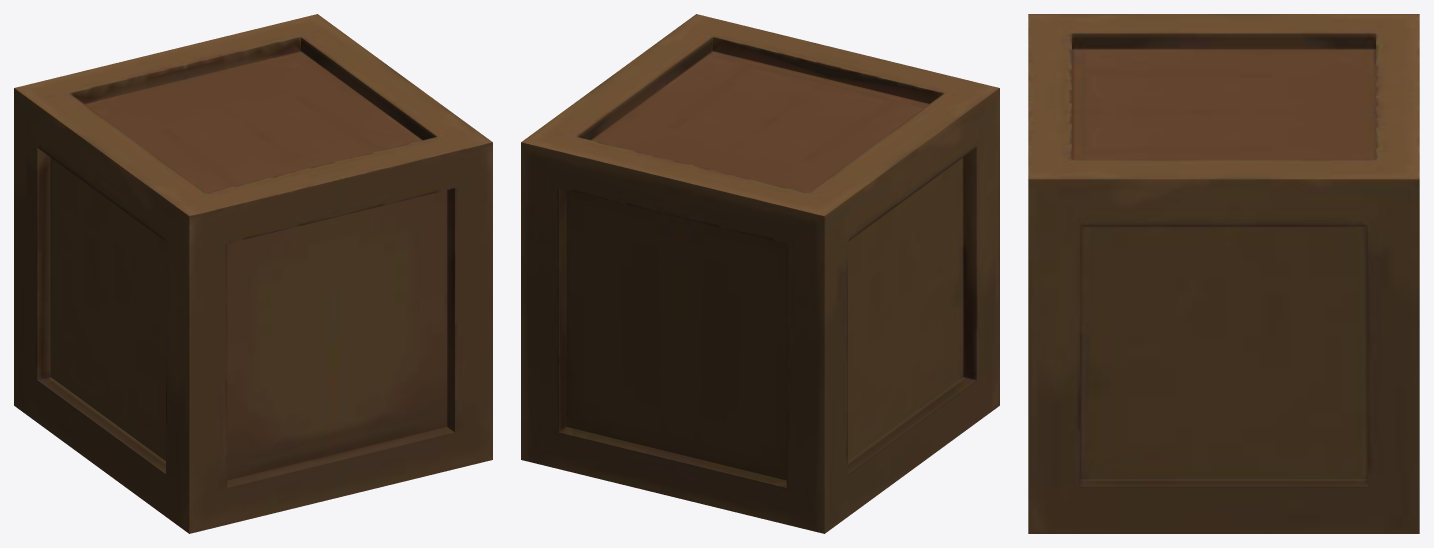
3 renders of one model, left to right at view 1: azimuth 30°, elevation 25°; view 2: azimuth 150°, elevation 25°; view 3: azimuth 270°, elevation 25°, orthographic. The views are drawn at different scales.
Parts seen in each view (by area): view 1: OBJ_BOX_01; view 2: OBJ_BOX_01; view 3: OBJ_BOX_01.
Part boxes in pixels (<box>): OBJ_BOX_01: <box>14,14,492,533</box>; OBJ_BOX_01: <box>521,14,999,533</box>; OBJ_BOX_01: <box>1028,14,1419,533</box>.
Bounding box in the file's own units: 0.9828 × 0.9828 × 0.9828.
1 material, 1 textured.
